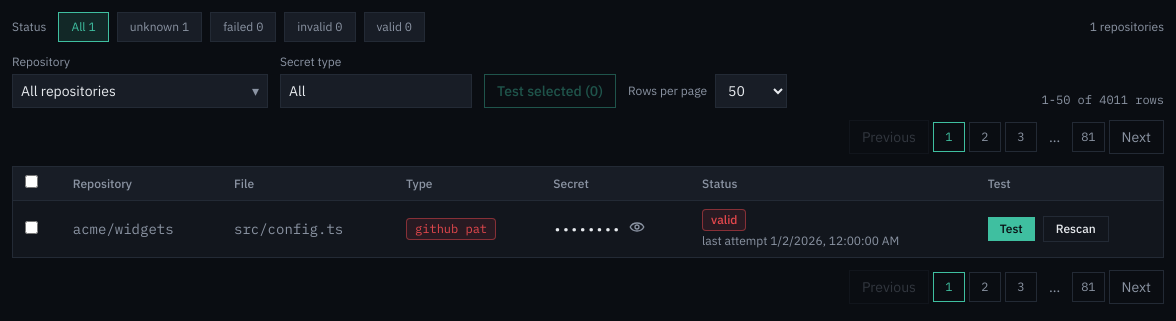
Scenario: TestingPanel (regular user, scoped to own approved repos) › changes the number of rows per page and clears selections without changing filters
Expected: the text "src/config.ts" is shown, [222,200,394,257]
Click the checkbox named "Select github_pat in src/config.ts" at (32, 228), box [25,221,38,234]
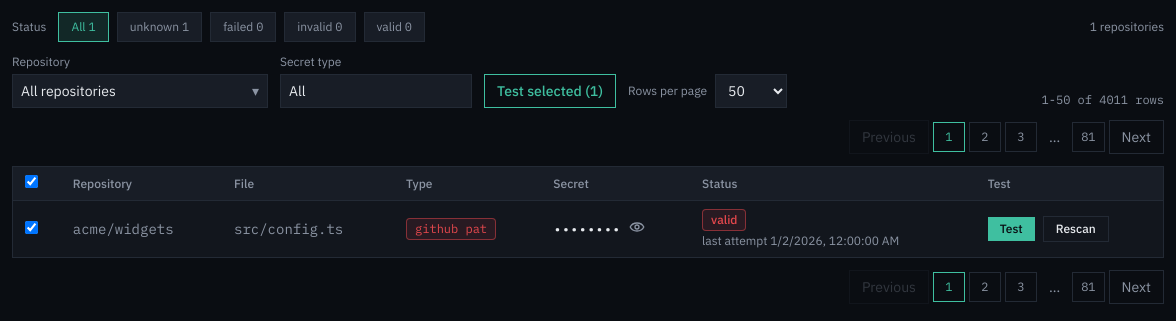
Expected: the button "Test selected (1)" is enabled, [484,74,616,108]
Select "200" in the dropdown labelled "Rows per page" at (751, 91), box [715,74,787,108]
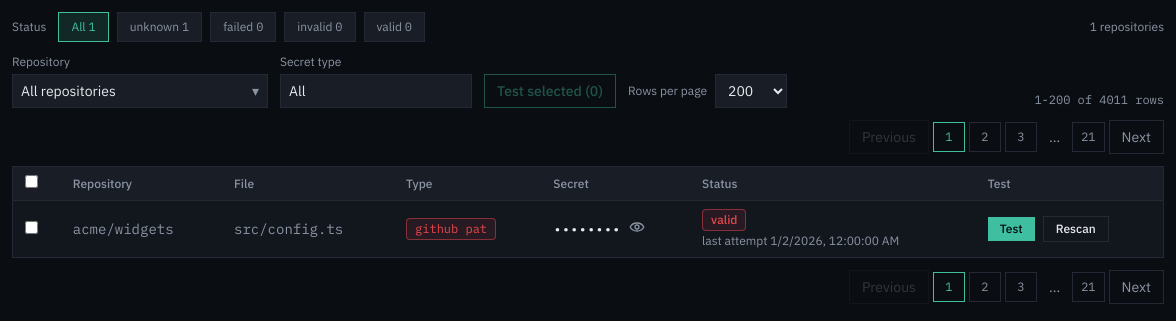
Expected: the text "1-200 of 4011 rows" is shown, [1034,92,1164,108]
Expected: the button "Test selected (0)" is disabled, [484,74,616,108]
Click the 1st button "2" at (985, 137), box [969,122,1001,152]
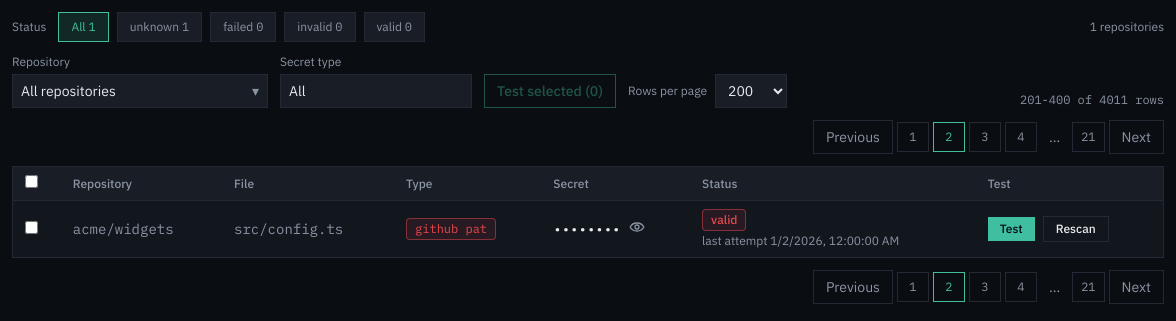
Expected: the text "201-400 of 4011 rows" is shown, [1020,92,1164,108]
Select "1000" in the dropdown labelled "Rows per page" at (751, 91), box [715,74,787,108]
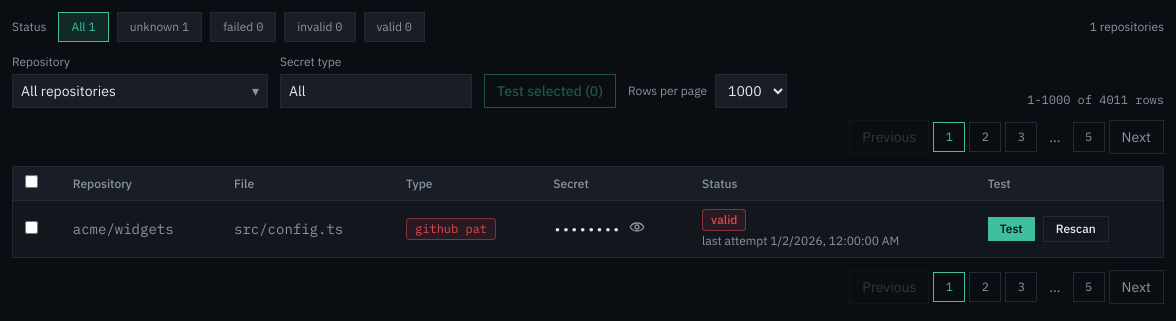
Expected: the text "1-1000 of 4011 rows" is shown, [1027,92,1164,108]
